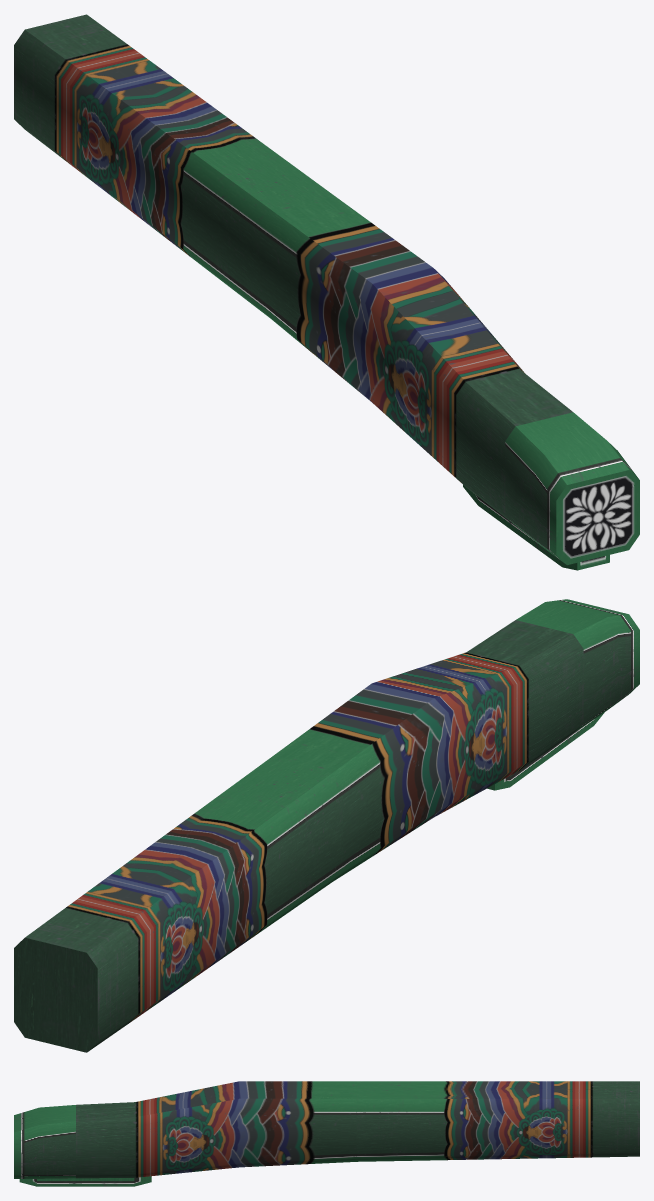
File: SM_Chunglyang01a.fbx
3 views of the same model, one above another, from view 1: azimuth 30°, elevation 25°; view 2: azimuth 150°, elevation 25°; view 3: azimuth 270°, elevation 25° (orthographic). The views are drawn at different scales.
Visible parts, largest first — view 1: SM_Chunglyang01a; view 2: SM_Chunglyang01a; view 3: SM_Chunglyang01a.
Part boxes in pixels (x1=…): SM_Chunglyang01a: x1=14, y1=14, x2=639, y2=570; SM_Chunglyang01a: x1=14, y1=599, x2=639, y2=1052; SM_Chunglyang01a: x1=14, y1=1081, x2=639, y2=1186.
Size of the model in its own units: 25.34 by 285 by 46.15.
1 material, 1 textured.
